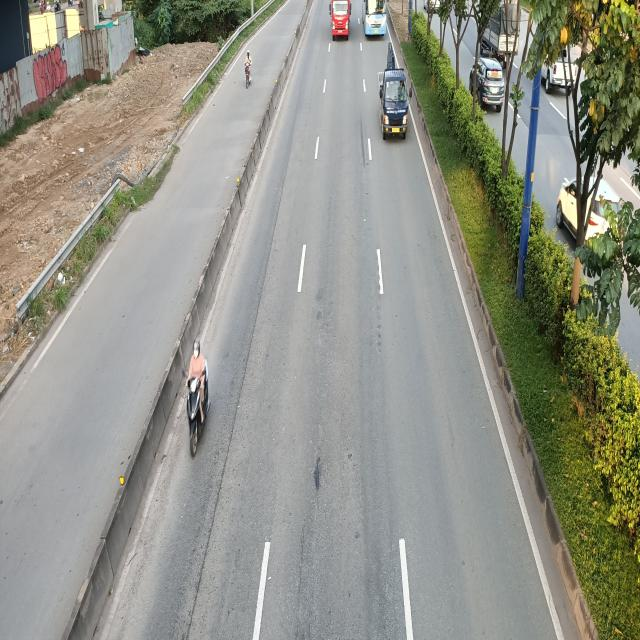coach: (363, 0, 389, 37)
truck: (378, 44, 412, 139), (331, 0, 353, 41)
